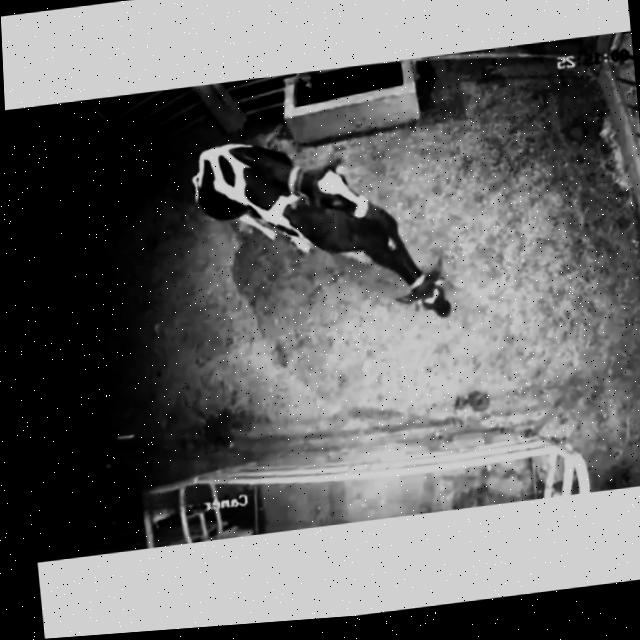ride: (177, 115, 375, 268)
